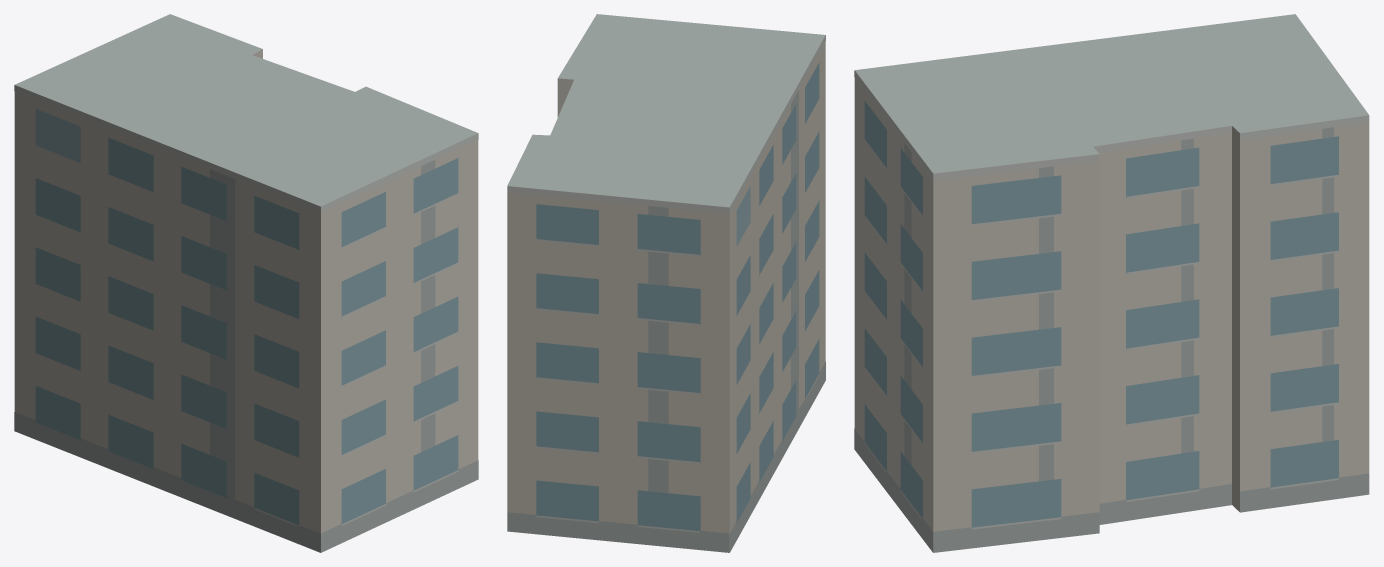
The model's file is survey-upis-32881965.glb.
3 views of the same model, side by side, from view 1: azimuth 30°, elevation 25°; view 2: azimuth 150°, elevation 25°; view 3: azimuth 270°, elevation 25° (orthographic). The views are drawn at different scales.
Parts seen in each view (by area): view 1: survey-upis-32881965.tmp; view 2: survey-upis-32881965.tmp; view 3: survey-upis-32881965.tmp.
Part boxes in pixels (x1,y1,x2,y2): survey-upis-32881965.tmp: [14, 14, 478, 552]; survey-upis-32881965.tmp: [507, 14, 825, 552]; survey-upis-32881965.tmp: [854, 14, 1369, 552].
Size of the model in its own units: 11.92 by 13.2 by 16.25.
